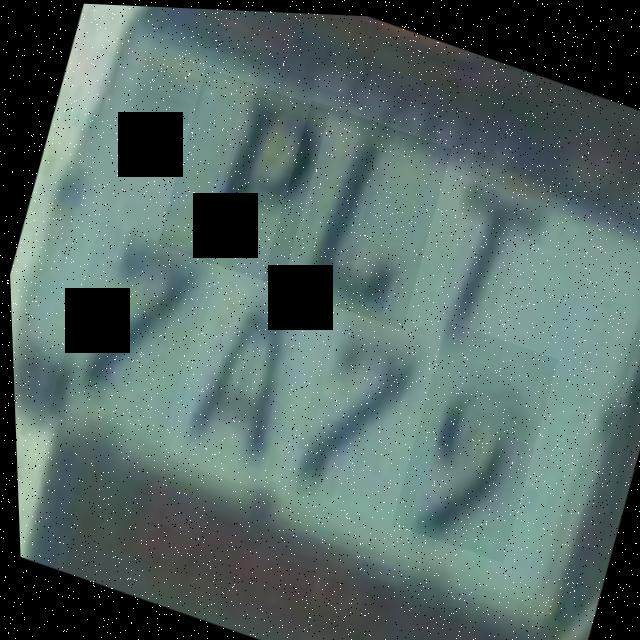7: (39, 218, 216, 453), (267, 298, 439, 517)
9: (381, 314, 561, 560)
A: (157, 262, 338, 498)
L: (254, 95, 456, 328)
P: (150, 64, 333, 286)
T: (384, 146, 571, 360)
